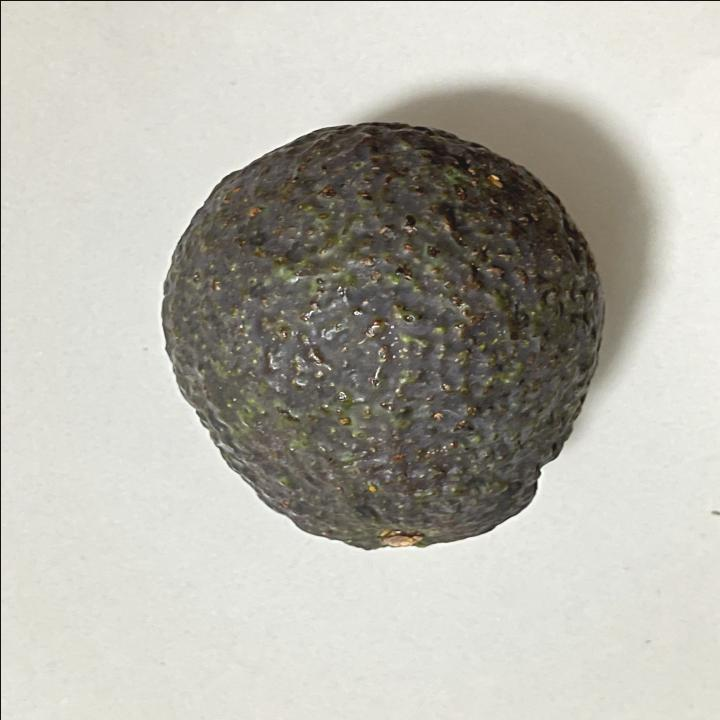Level2: (149, 115, 608, 558)
